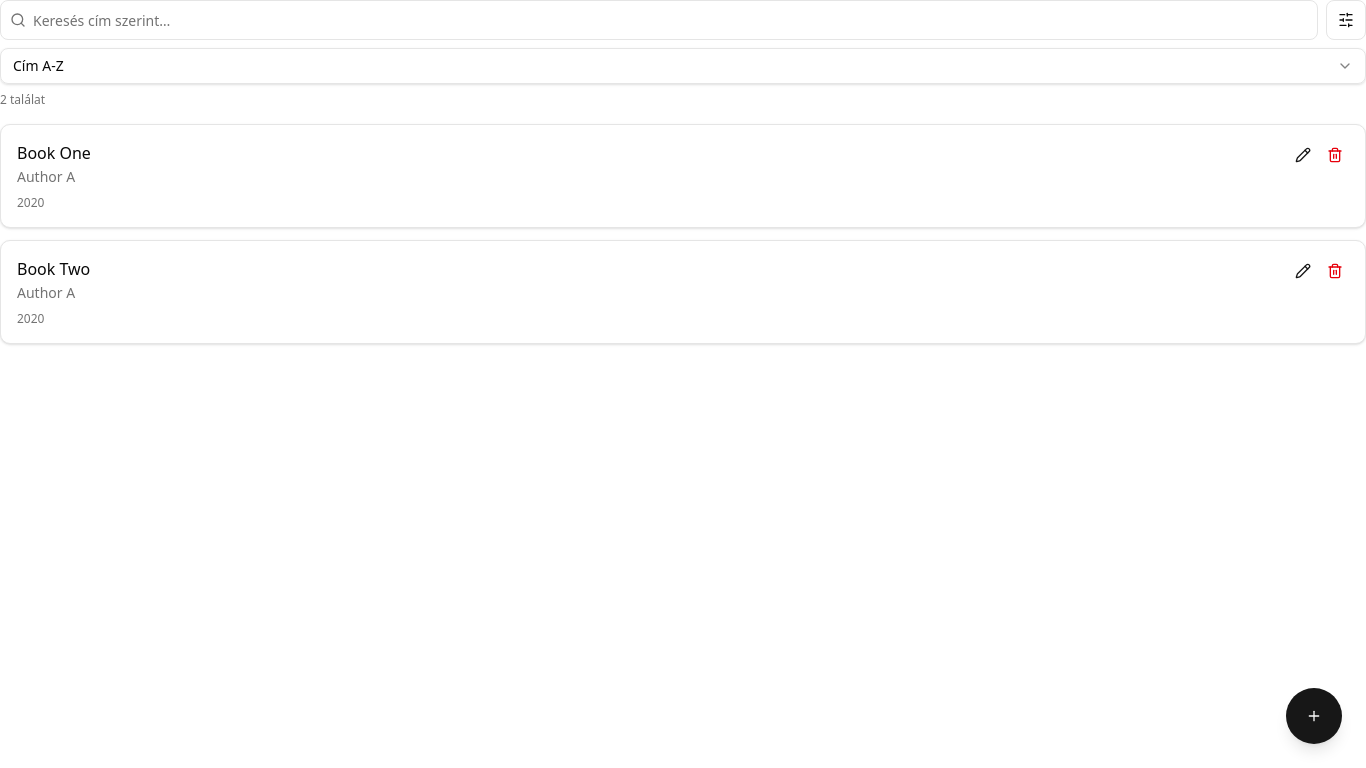
Test: BookCardView — mutation refresh strategy › removes the deleted card from the list, without refetching
The width and height of the screenshot is (1366, 768).
Expected: the text "Book One" is shown, [17, 141, 91, 165]
Click the 1st button named "Törlés": (1335, 155) [1321, 141, 1349, 169]
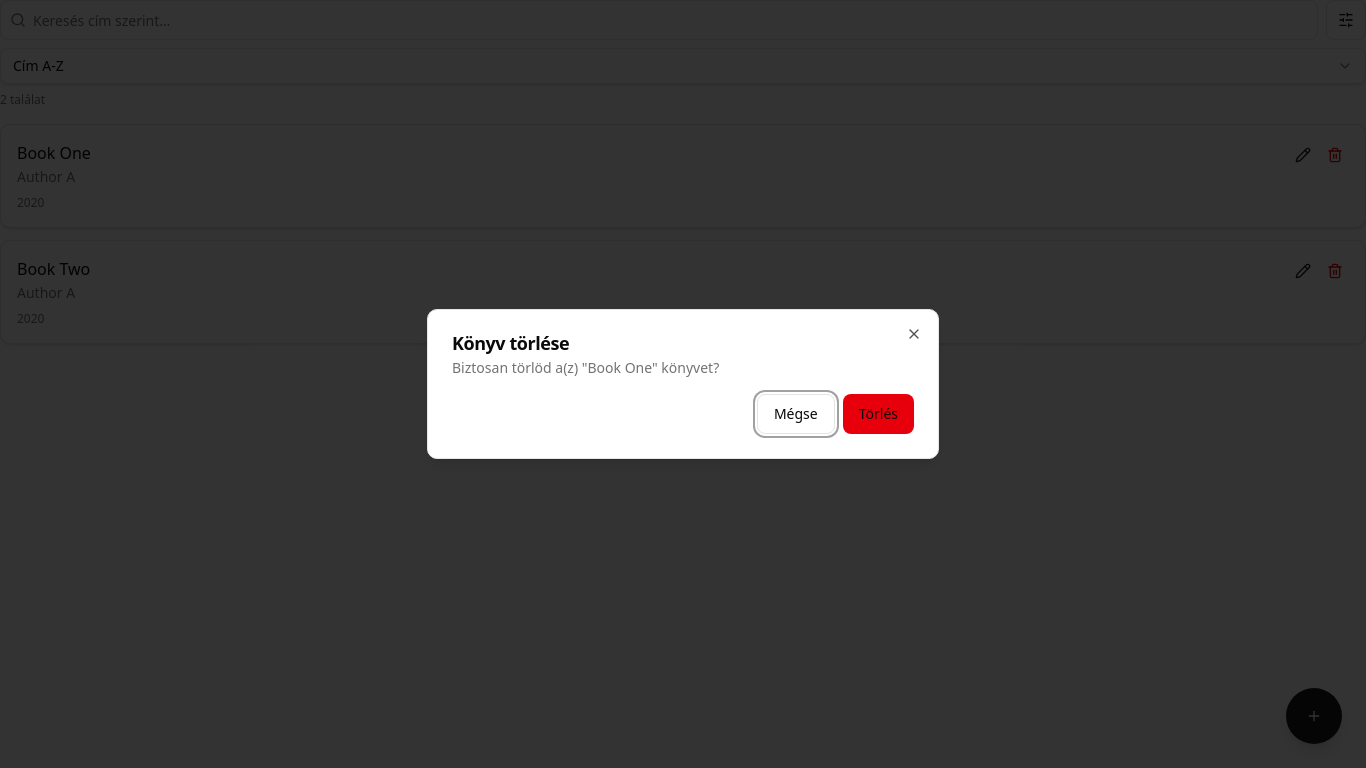
Click the button "Törlés": (878, 414) [843, 394, 914, 434]
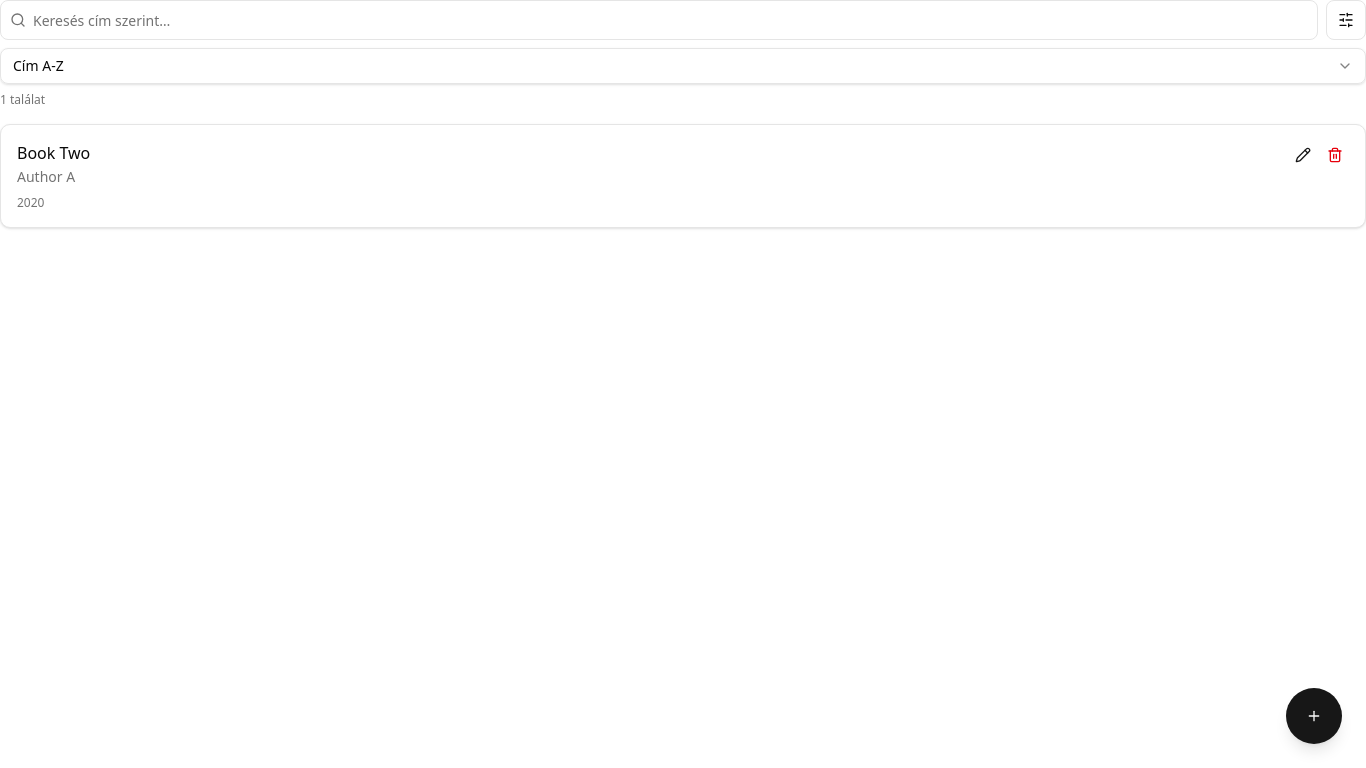
Expected: the text "Book Two" is shown, [17, 141, 90, 165]
Result: the button "Book One" is gone
Result: the number of buttons with test id "book-card" is 1 at [0, 124, 1365, 228]
